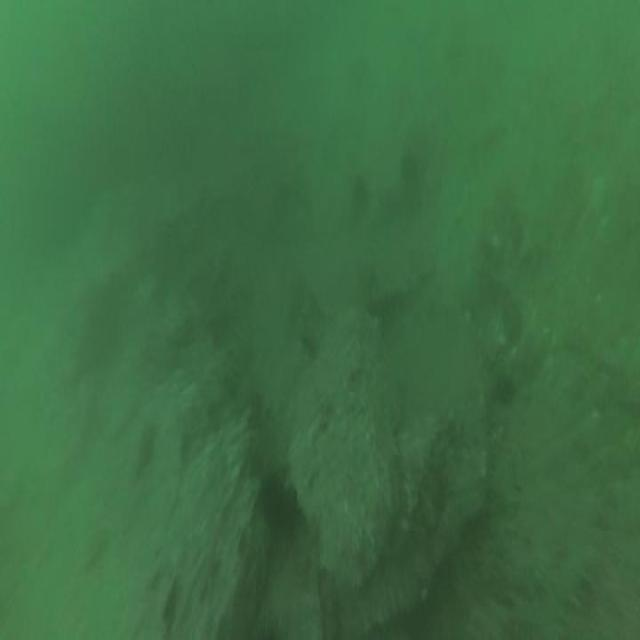echinus: (260, 474, 294, 537)
